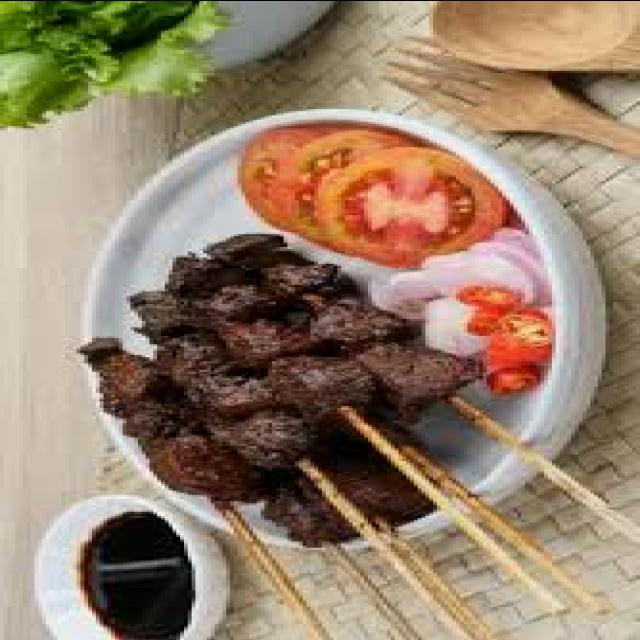sate: (82, 238, 454, 546)
